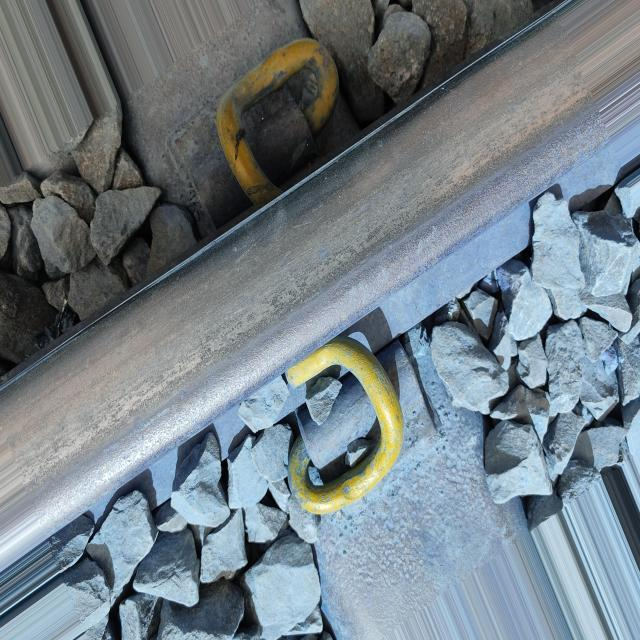Good Fasteners: (286, 336, 519, 640), (123, 0, 338, 225)
